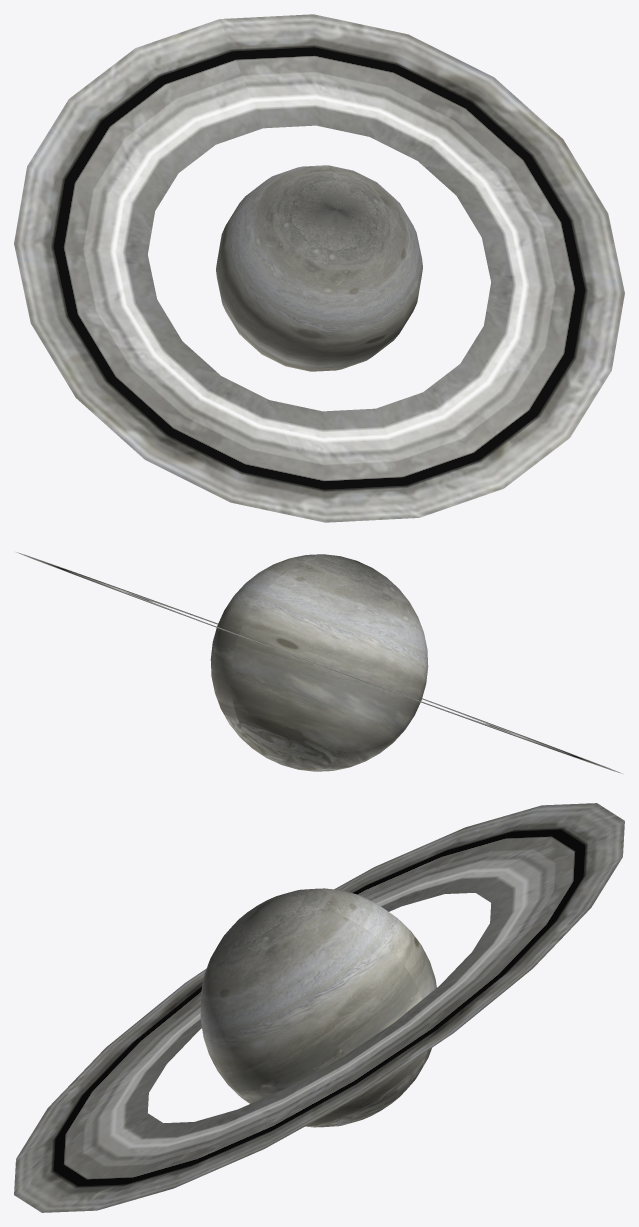
The model's file is Star_5.dae.
3 views of the same model, one above another, from view 1: azimuth 30°, elevation 25°; view 2: azimuth 150°, elevation 25°; view 3: azimuth 270°, elevation 25° (orthographic). The views are drawn at different scales.
Parts seen in each view (by area): view 1: Star_outline, Star; view 2: Star, Star_outline; view 3: Star_outline, Star.
Boxes of the visible parts, x1,y1,x2,y2 form: Star_outline: (14, 14, 624, 522); Star: (216, 165, 422, 371); Star: (210, 554, 428, 771); Star_outline: (16, 552, 622, 773); Star_outline: (14, 803, 624, 1212); Star: (200, 888, 436, 1127).
Bounding box in the file's own units: 5.91 × 3.1 × 5.1.
Materials: 1 (1 with a texture image).
